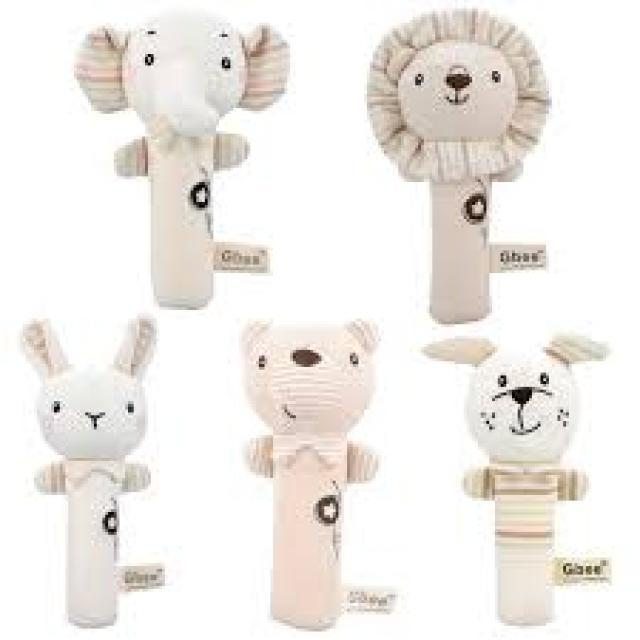soft-toy: (75, 12, 289, 308), (368, 10, 549, 323), (422, 336, 605, 625), (244, 320, 379, 628), (21, 318, 155, 626)
